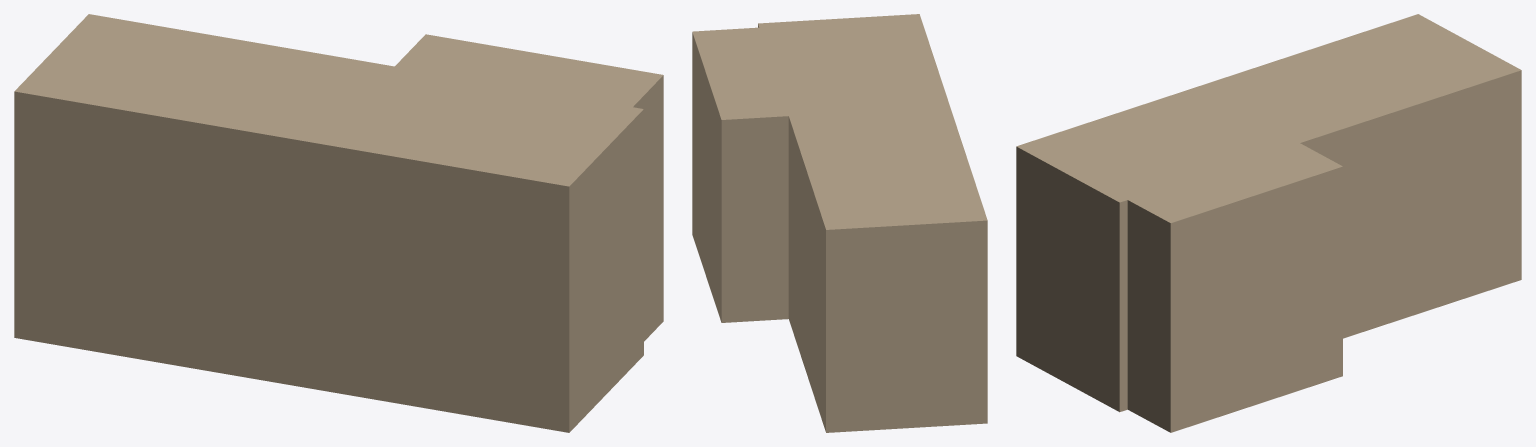
The model's file is bld_108400889.dae.
3 views of the same model, side by side, from view 1: azimuth 30°, elevation 25°; view 2: azimuth 150°, elevation 25°; view 3: azimuth 270°, elevation 25° (orthographic). The views are drawn at different scales.
Parts seen in each view (by area): view 1: bld_108400889; view 2: bld_108400889; view 3: bld_108400889.
Boxes of the visible parts, x1,y1,x2,y2 form: bld_108400889: [14, 14, 663, 432]; bld_108400889: [692, 14, 987, 432]; bld_108400889: [1016, 14, 1521, 432].
Bounding box in the file's own units: 17.13 × 17.48 × 8.
